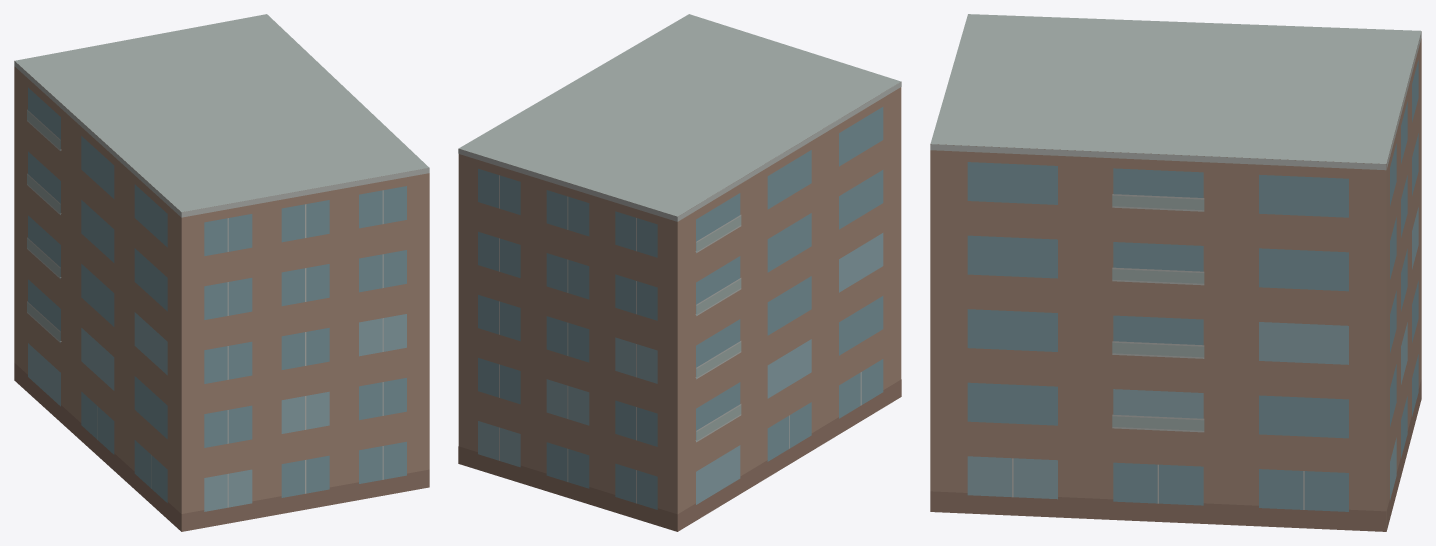
The model's file is survey-upis-32769350.glb.
3 views of the same model, side by side, from view 1: azimuth 30°, elevation 25°; view 2: azimuth 150°, elevation 25°; view 3: azimuth 270°, elevation 25° (orthographic). The views are drawn at different scales.
Visible parts, largest first — view 1: survey-upis-32769350.tmp; view 2: survey-upis-32769350.tmp; view 3: survey-upis-32769350.tmp.
Part boxes in pixels (<box>): survey-upis-32769350.tmp: <box>14,14,429,531</box>; survey-upis-32769350.tmp: <box>458,14,901,531</box>; survey-upis-32769350.tmp: <box>930,14,1421,531</box>.
Bounding box in the file's own units: 12.79 × 14.6 × 17.68.
